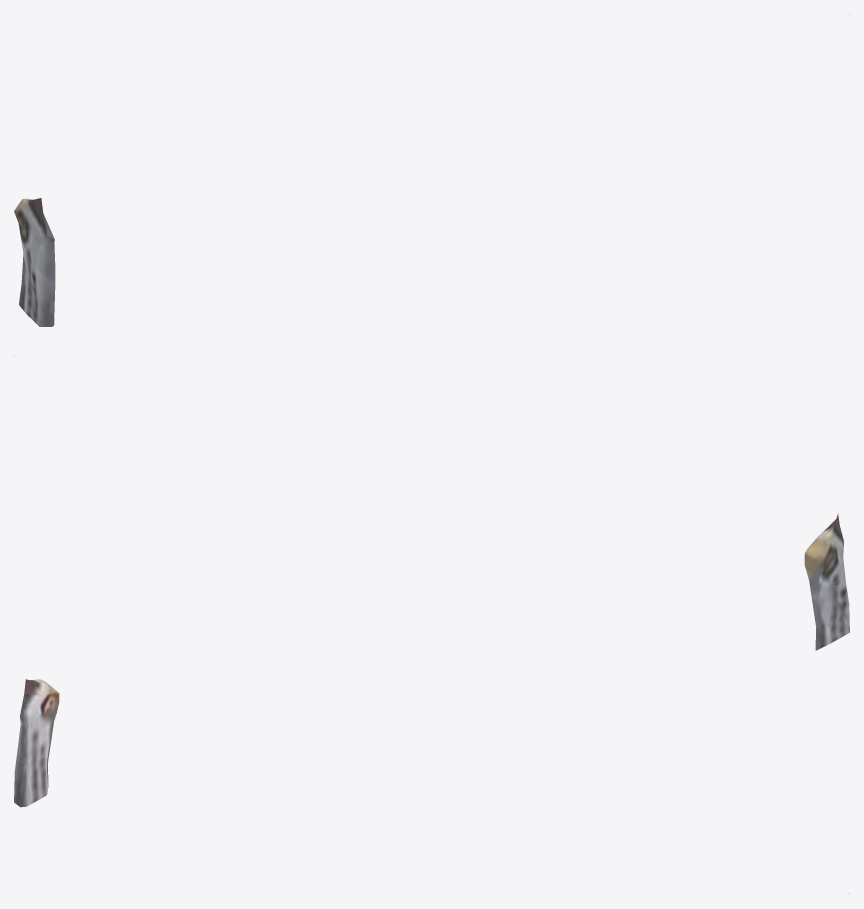
File: Tile_+007_+011_L20_0uuuu13.glb
3 views of the same model, one above another, from view 1: azimuth 30°, elevation 25°; view 2: azimuth 150°, elevation 25°; view 3: azimuth 330°, elevation 25° (orthographic).
Parts seen in each view (by area): view 1: rtc; view 2: rtc; view 3: rtc.
Boxes of the visible parts, x1,y1,x2,y2 form: rtc: [14, 14, 849, 326]; rtc: [14, 355, 849, 650]; rtc: [14, 679, 849, 893].
Bounding box in the file's own units: 23.68 × 3.37 × 1.59.
Materials: 1 (1 with a texture image).
